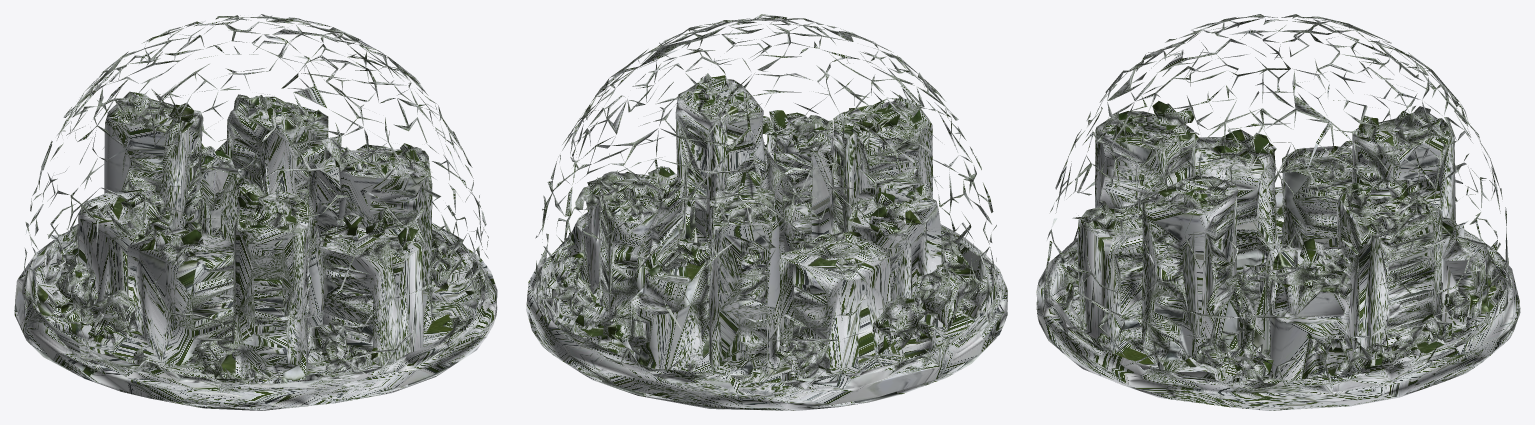
File: plazirdome.lod1.glb
The picture shows the model from 3 angles, left to right: view 1: azimuth 30°, elevation 25°; view 2: azimuth 150°, elevation 25°; view 3: azimuth 270°, elevation 25°; orthographic projection.
Parts seen in each view (by area): view 1: plazirdome-centred; view 2: plazirdome-centred; view 3: plazirdome-centred.
Boxes of the visible parts, x1=… form: plazirdome-centred: x1=14, y1=14, x2=497, y2=410; plazirdome-centred: x1=526, y1=14, x2=1007, y2=410; plazirdome-centred: x1=1036, y1=14, x2=1520, y2=410.
Bounding box in the file's own units: 110 × 68.76 × 110.
1 material, 1 textured.
